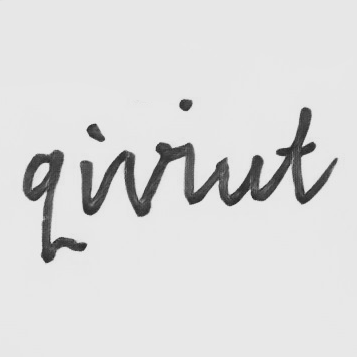i: (69, 122, 110, 218), (178, 98, 201, 206)
q: (20, 144, 65, 266)
t: (273, 105, 332, 207)
u: (213, 152, 266, 209)
v: (118, 138, 174, 219)
